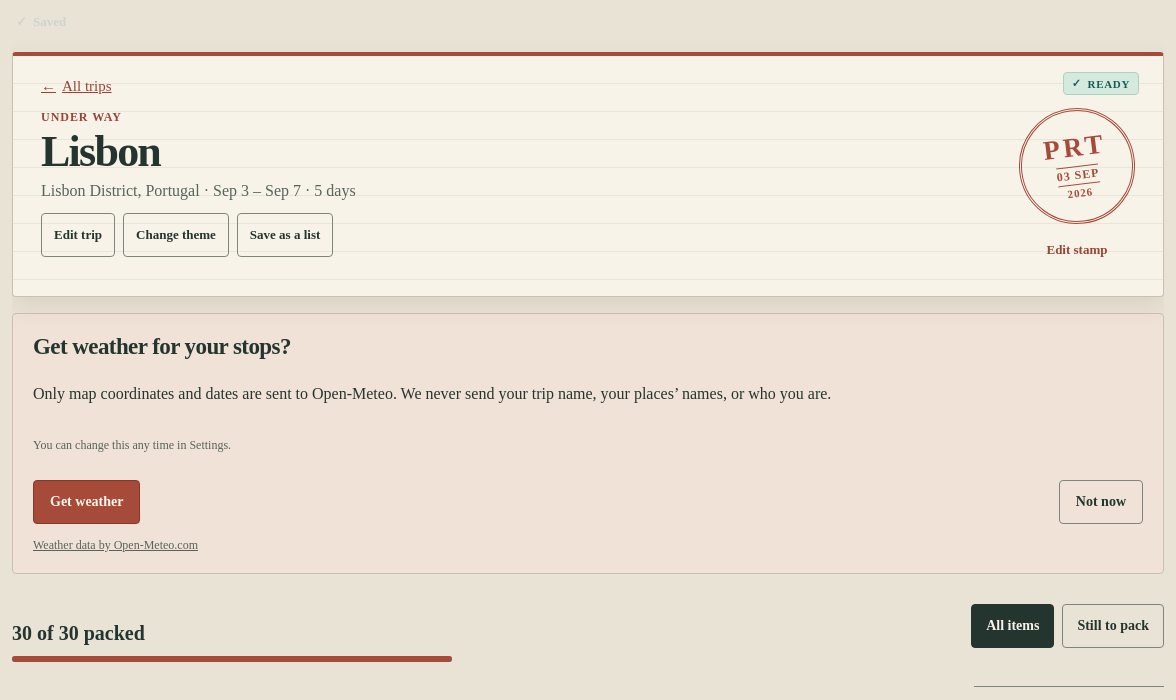
Test case: turning weather on and off › a failed opt-in changes nothing and says so
Step 1. Click the button "Get weather" → (87, 502), box top-left (33, 480), bottom-right (140, 524)
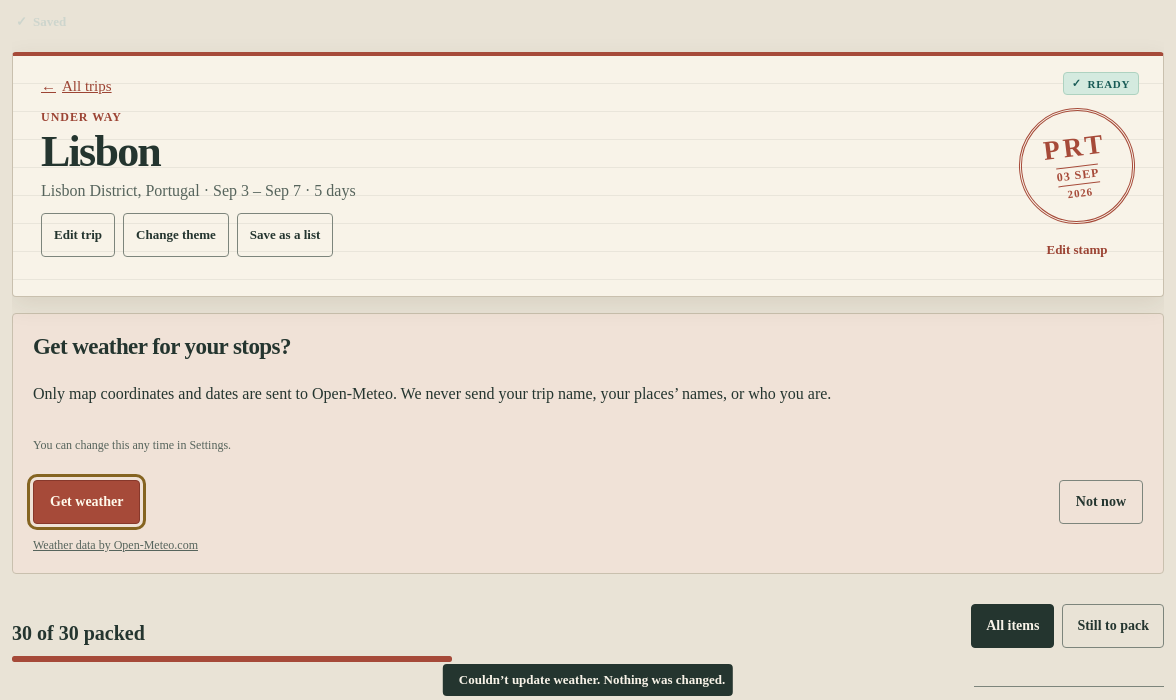
expect the text "Couldn’t update weather. Nothing was changed." is shown: met, box top-left (459, 672), bottom-right (725, 688)
